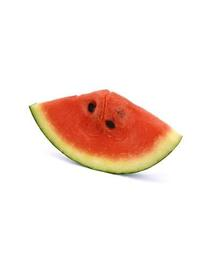watermelon: (28, 89, 182, 176)
